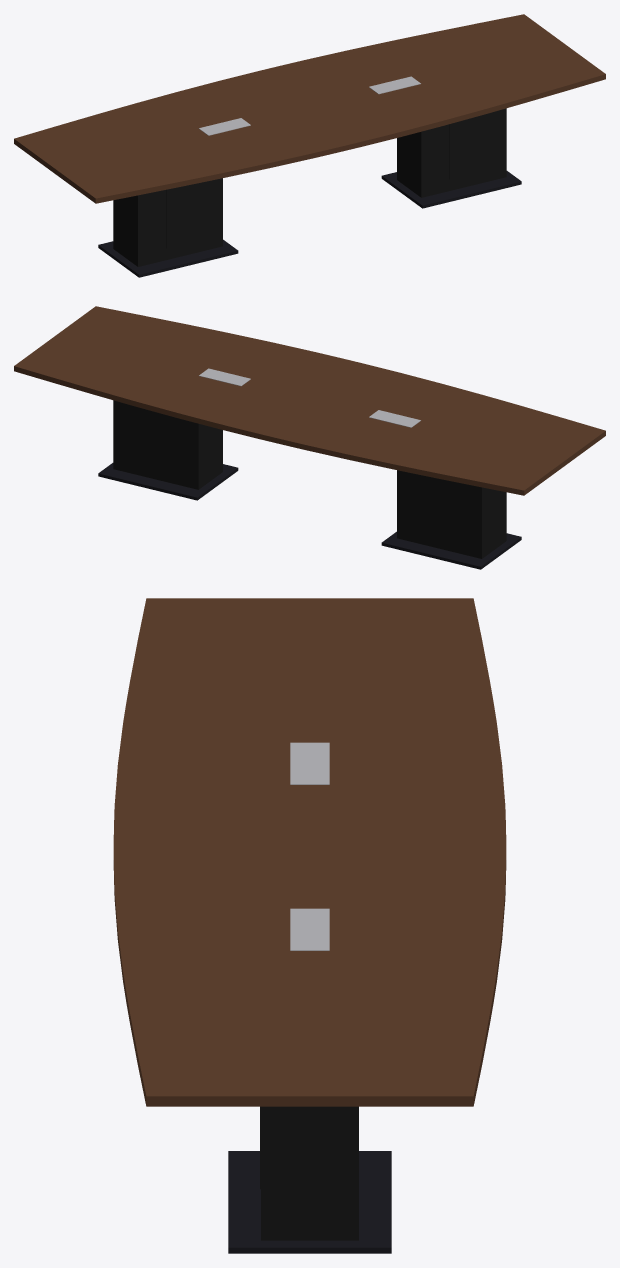
Rendered from 096_conference_table_10_seat.glb.
The picture shows the model from 3 angles, top to bottom: view 1: azimuth 30°, elevation 25°; view 2: azimuth 150°, elevation 25°; view 3: azimuth 270°, elevation 25°; orthographic projection. The views are drawn at different scales.
Visible parts, largest first — view 1: 000_tabletop, 002_pedestal_column, 010_pedestal_column, 004_cable_access_door, 012_cable_access_door, 001_pedestal_base_plate, 009_pedestal_base_plate, 020_power_box_flip_lid, 018_power_box_flip_lid; view 2: 000_tabletop, 002_pedestal_column, 010_pedestal_column, 001_pedestal_base_plate, 009_pedestal_base_plate, 020_power_box_flip_lid, 018_power_box_flip_lid; view 3: 000_tabletop, 010_pedestal_column, 009_pedestal_base_plate, 018_power_box_flip_lid, 020_power_box_flip_lid.
Part boxes in pixels (box(x1,y1,x2,y2)): 000_tabletop: box(14, 14, 605, 203); 002_pedestal_column: box(113, 178, 222, 266); 010_pedestal_column: box(397, 108, 506, 197); 004_cable_access_door: box(166, 184, 194, 248); 012_cable_access_door: box(449, 116, 478, 179); 001_pedestal_base_plate: box(98, 239, 238, 277); 009_pedestal_base_plate: box(381, 171, 521, 208); 020_power_box_flip_lid: box(369, 76, 420, 94); 018_power_box_flip_lid: box(199, 118, 250, 135); 000_tabletop: box(14, 306, 605, 495); 002_pedestal_column: box(397, 470, 506, 558); 010_pedestal_column: box(113, 400, 222, 489); 001_pedestal_base_plate: box(381, 531, 521, 569); 009_pedestal_base_plate: box(98, 463, 238, 500); 020_power_box_flip_lid: box(199, 368, 250, 386); 018_power_box_flip_lid: box(369, 410, 420, 427); 000_tabletop: box(113, 598, 506, 1106); 010_pedestal_column: box(261, 1106, 358, 1240); 009_pedestal_base_plate: box(228, 1151, 391, 1253); 018_power_box_flip_lid: box(290, 742, 329, 784); 020_power_box_flip_lid: box(290, 908, 329, 950).
Bounding box in the file's own units: 3.6 × 0.743 × 1.2.
